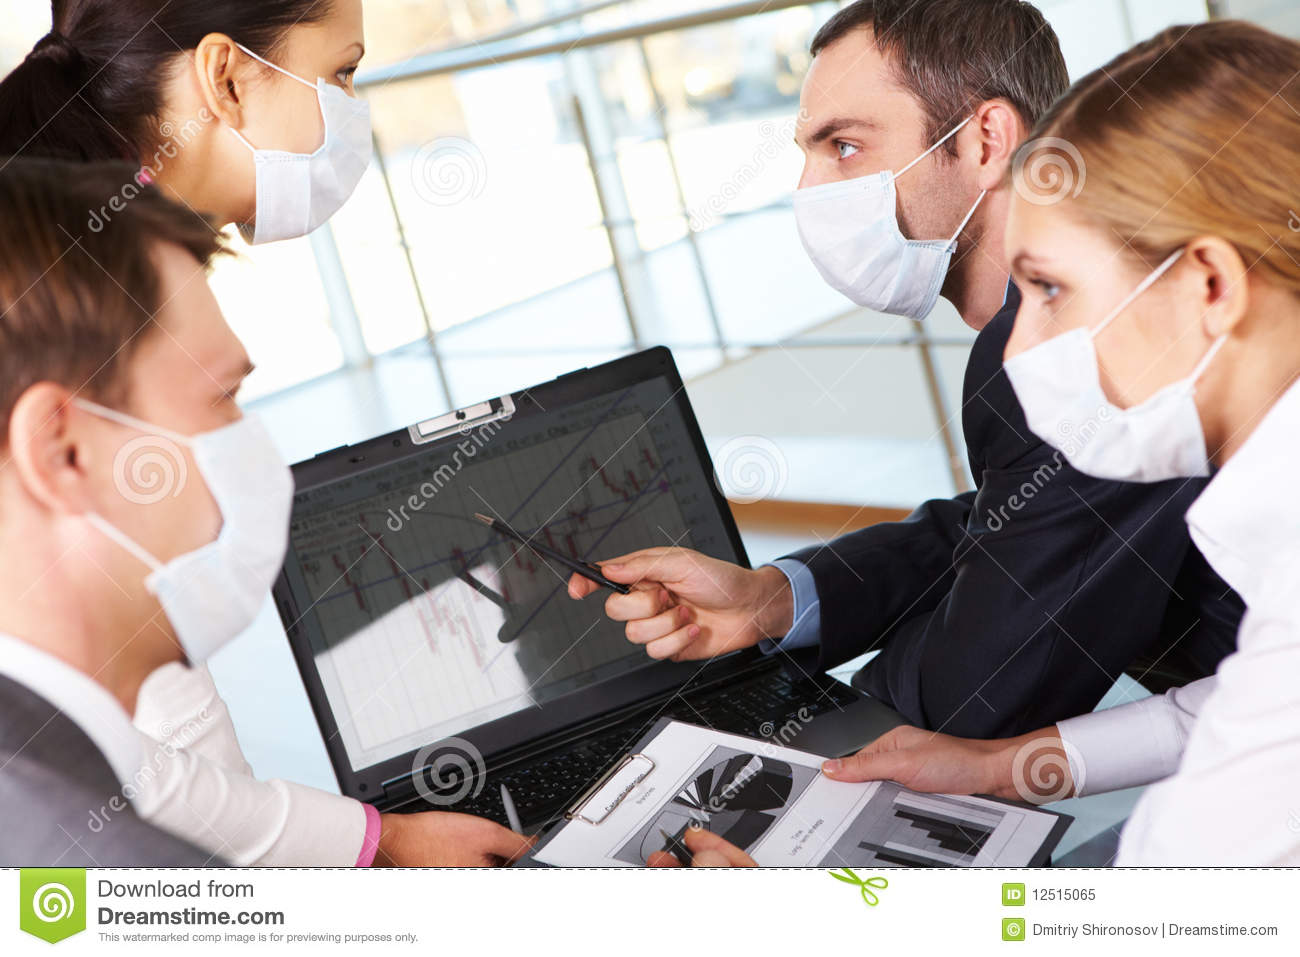mask: (1009, 331, 1214, 487), (162, 424, 290, 668), (789, 175, 959, 324), (250, 80, 369, 243)
